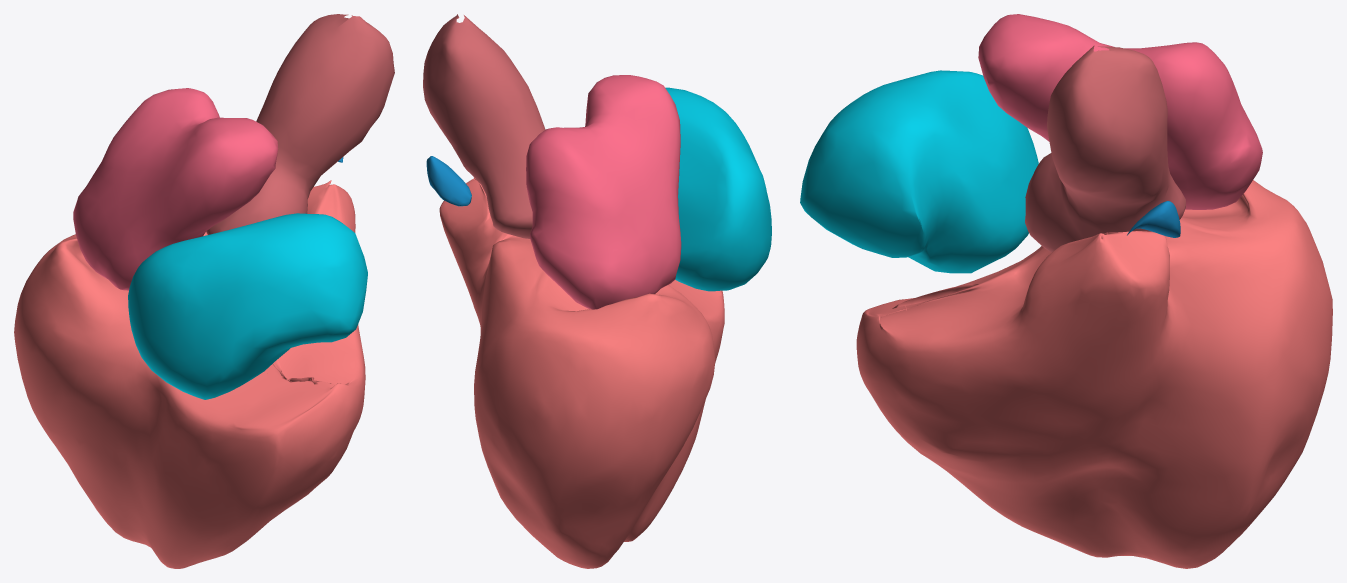
Rendered from frame_25.glb.
The picture shows the model from 3 angles, left to right: view 1: azimuth 30°, elevation 25°; view 2: azimuth 150°, elevation 25°; view 3: azimuth 270°, elevation 25°; orthographic projection. The views are drawn at different scales.
Visible parts, largest first — view 1: Renderer Node; view 2: Renderer Node; view 3: Renderer Node.
Boxes of the visible parts, x1=… form: Renderer Node: x1=14, y1=14, x2=394, y2=568; Renderer Node: x1=423, y1=14, x2=771, y2=568; Renderer Node: x1=800, y1=14, x2=1332, y2=568.
Bounding box in the file's own units: 98.82 × 151 × 119.
